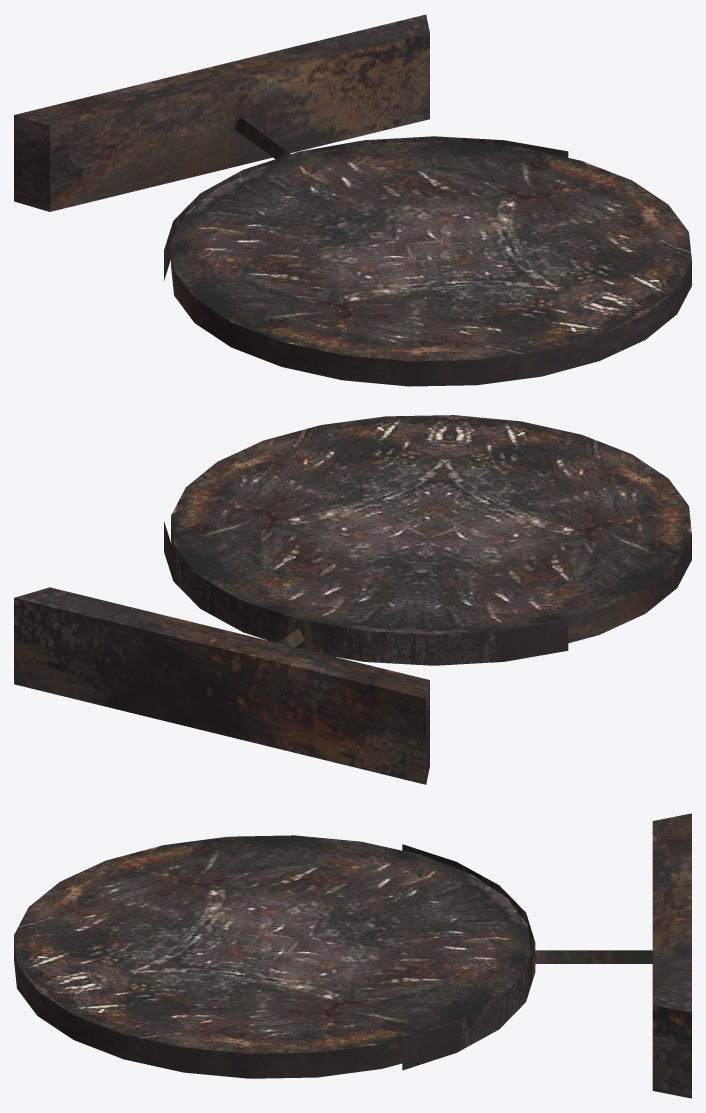
The model's file is p6_zm_nuked_table_art_LOD1.obj.
3 renders of one model, top to bottom at view 1: azimuth 30°, elevation 25°; view 2: azimuth 150°, elevation 25°; view 3: azimuth 270°, elevation 25°, orthographic.
Visible parts, largest first — view 1: mtl_p6_zm_nuked_table_art; view 2: mtl_p6_zm_nuked_table_art; view 3: mtl_p6_zm_nuked_table_art.
Boxes of the visible parts, x1,y1,x2,y2 form: mtl_p6_zm_nuked_table_art: (14, 14, 691, 386); mtl_p6_zm_nuked_table_art: (14, 415, 691, 784); mtl_p6_zm_nuked_table_art: (14, 813, 691, 1098).
Size of the model in its own units: 50.11 by 9.17 by 65.74.
